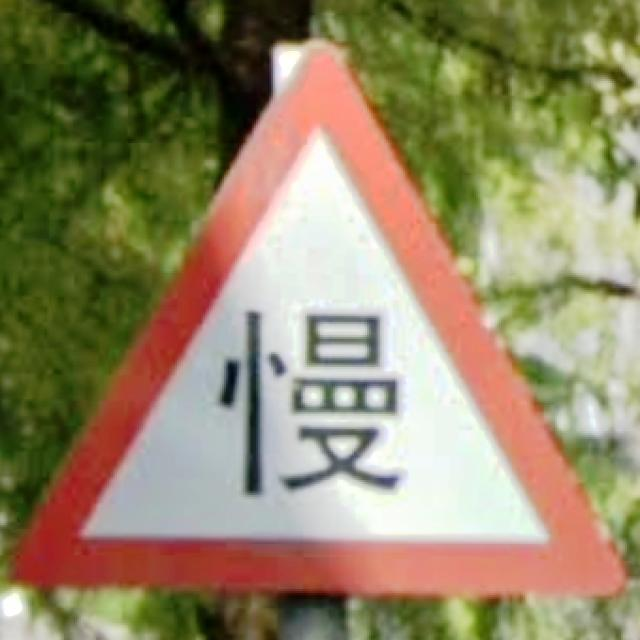slow: (9, 43, 629, 595)
